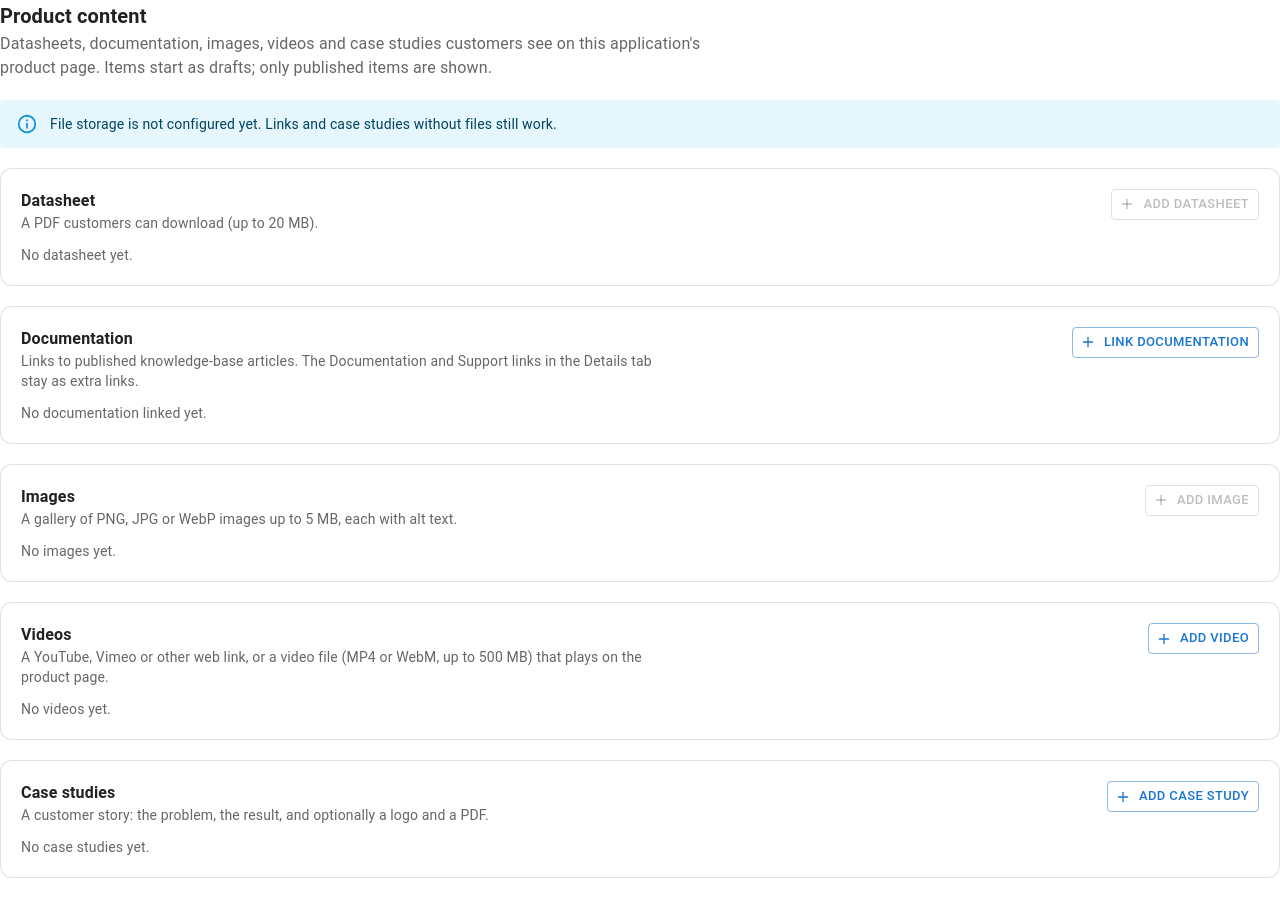
Test: Product content — admin Content tab (REQ-CAT-004) › without storage the video file option is off but a link still works
Click the button "Add video" at (1203, 638), box [1148,623,1259,654]
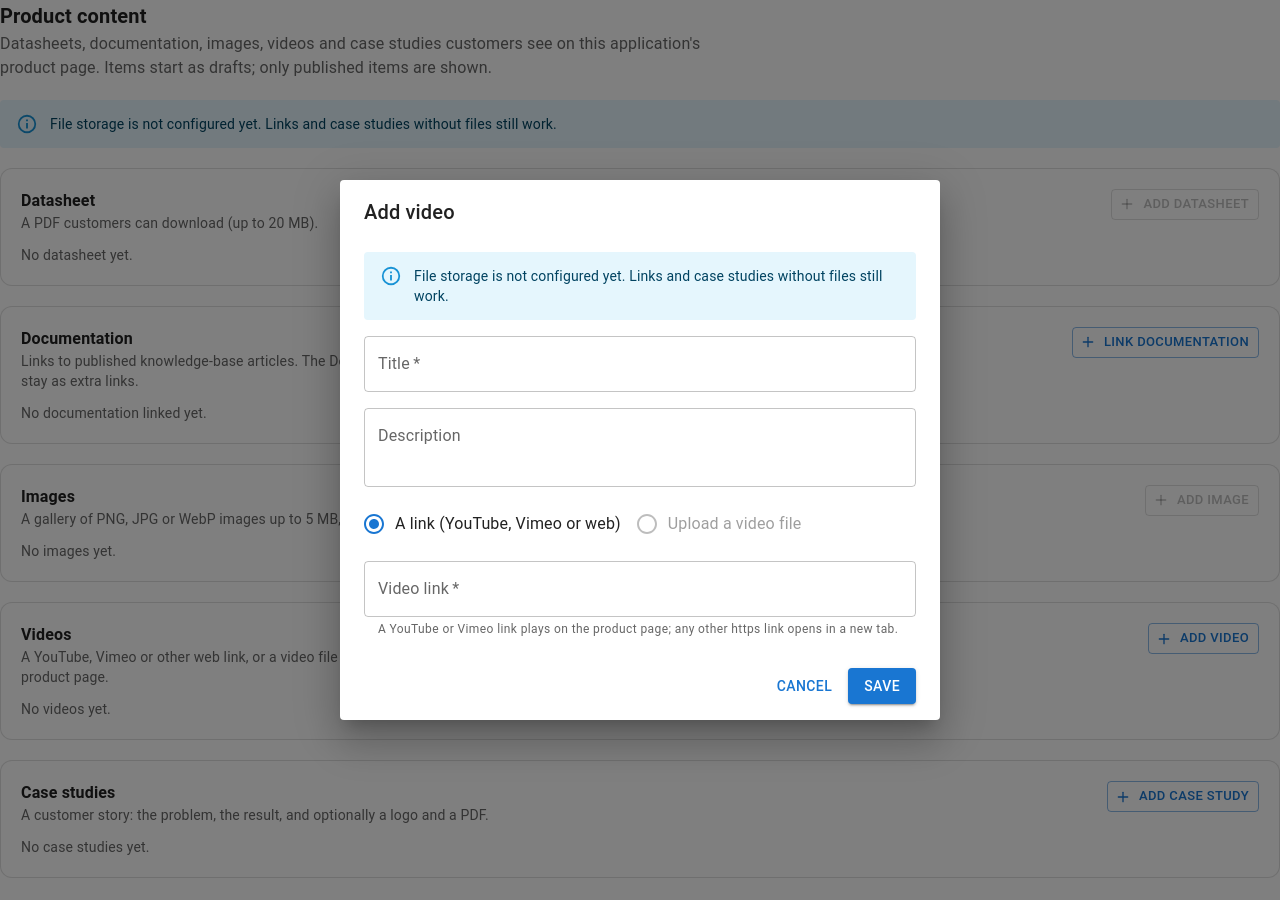
Now the radio button labelled "Upload a video file" is disabled, box [635,512,802,536]
Now the field labelled "Video link *" is shown, box [364,561,916,617]
